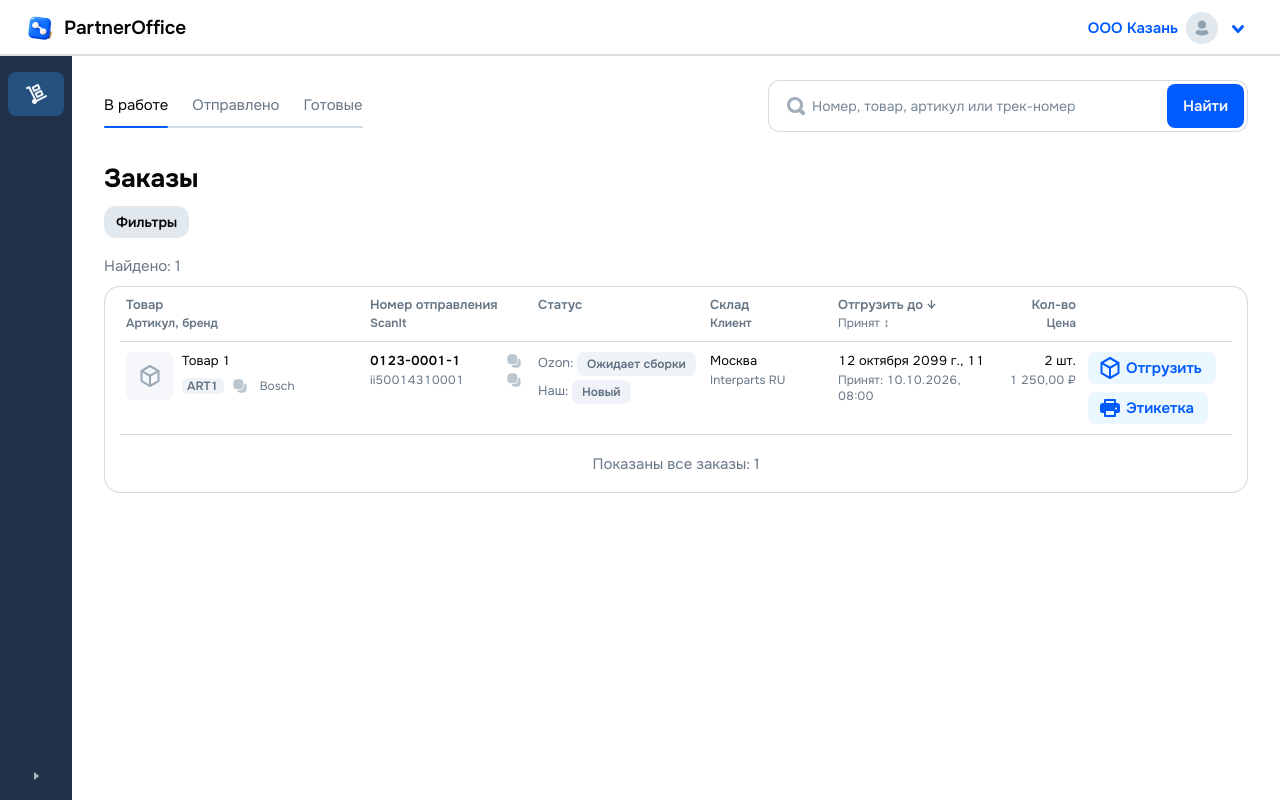
Test: Статус Studio2: «Принят» → «Отгрузить» › отказ сервера (403, 422) показывает объяснение и причины
What coordinates should you click on to do the following:
click the button "Отгрузить"
I would click on:
 (1152, 368)
Its box is left=1088, top=352, right=1216, bottom=384.
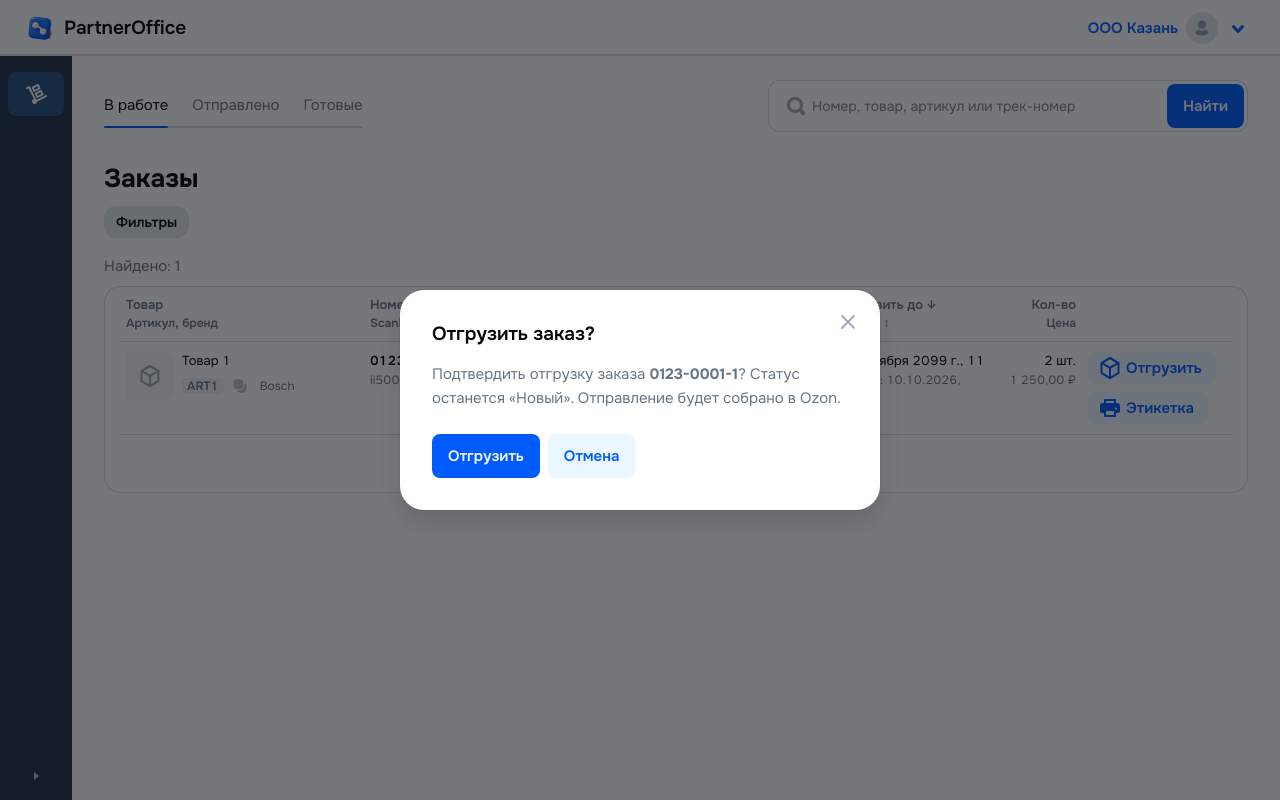
What coordinates should you click on to do the following:
click the button "Отгрузить"
I would click on:
 (486, 456)
Its box is left=432, top=434, right=540, bottom=478.
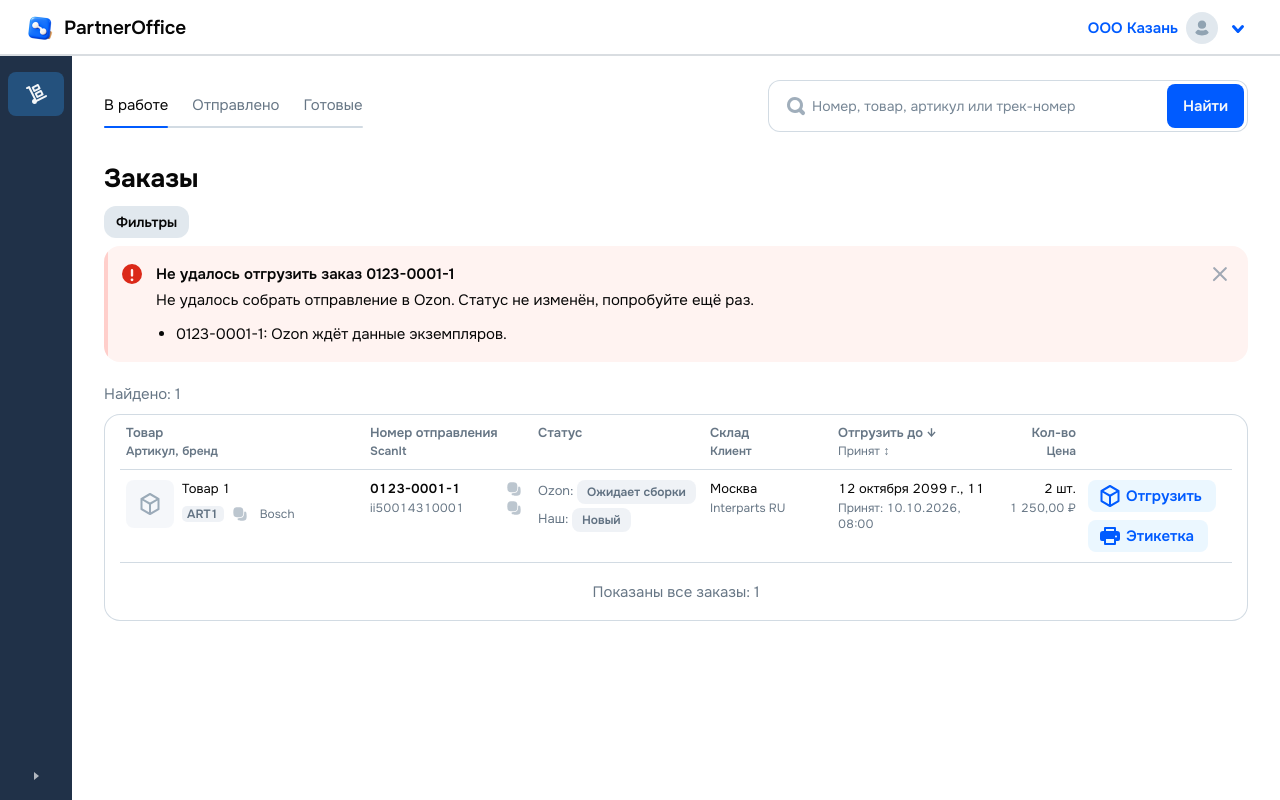
Check: the button "Отгрузить" is shown, box left=1088, top=480, right=1216, bottom=512
Check: the text "Не удалось отгрузить заказ 0123-0001-1" is shown, box left=156, top=264, right=454, bottom=284
Check: the list item "0123-0001-1: Ozon ждёт данные экземпляров." is shown, box left=176, top=324, right=507, bottom=344
